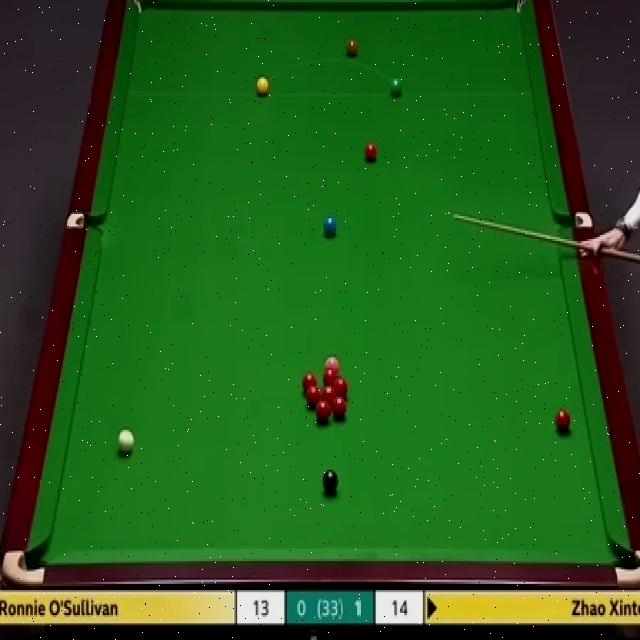black-ball: (322, 469, 338, 494)
blue-ball: (322, 214, 336, 237)
brown-ball: (346, 37, 359, 58)
green-ball: (389, 76, 402, 98)
pink-ball: (323, 354, 340, 368)
red-ball: (554, 407, 570, 434), (332, 396, 347, 420), (363, 141, 378, 163), (316, 400, 330, 423), (332, 378, 348, 398), (322, 367, 338, 385), (320, 386, 335, 405), (306, 386, 320, 406), (302, 371, 316, 391)
white-ball: (116, 426, 134, 455)
yellow-ball: (256, 75, 270, 96)
